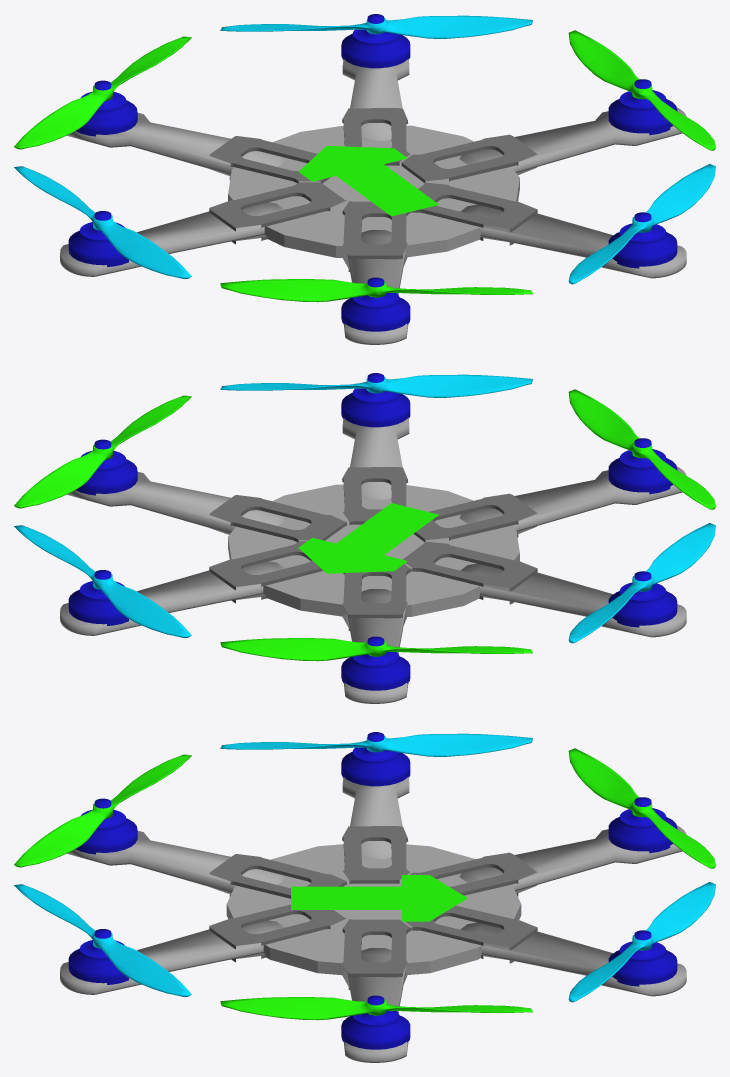
Rendered from hex_x2.gltf.
3 renders of one model, top to bottom at view 1: azimuth 30°, elevation 25°; view 2: azimuth 150°, elevation 25°; view 3: azimuth 270°, elevation 25°, orthographic.
Parts seen in each view (by area): view 1: hex-x; view 2: hex-x; view 3: hex-x.
Part boxes in pixels (x1,y1,x2,y2): hex-x: [14, 14, 715, 344]; hex-x: [14, 373, 715, 703]; hex-x: [14, 732, 715, 1062].
Bounding box in the file's own units: 0.9075 × 0.0692 × 0.896.
